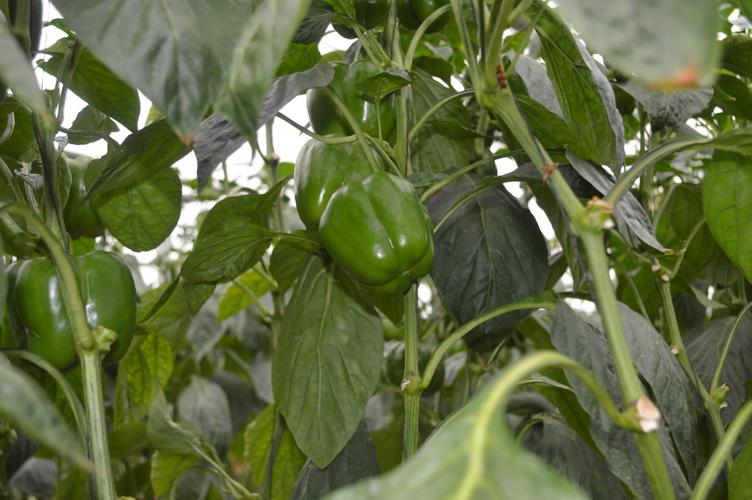BellPepper: (2, 243, 139, 381), (318, 178, 441, 308), (282, 127, 381, 236), (37, 148, 107, 244)
